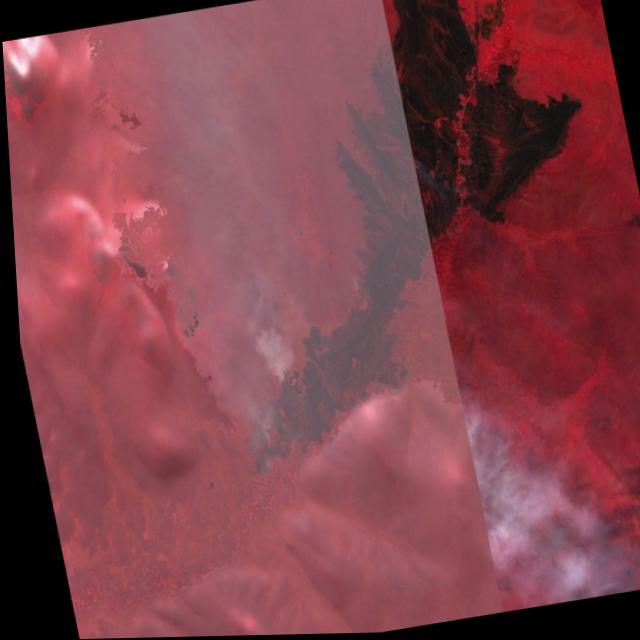fire: (229, 415, 279, 488), (258, 349, 299, 399)
